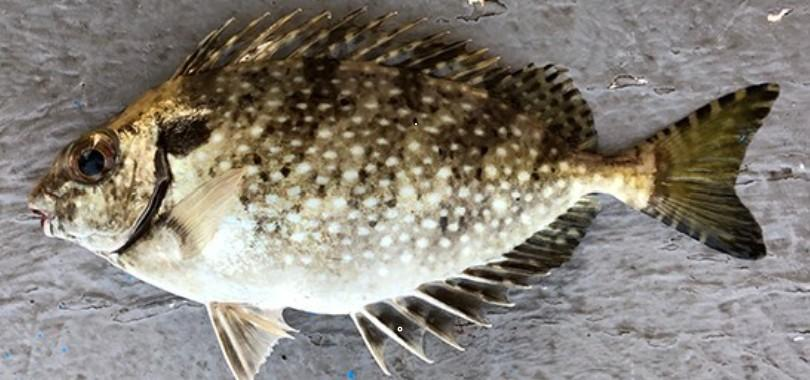fish: (28, 9, 778, 379)
